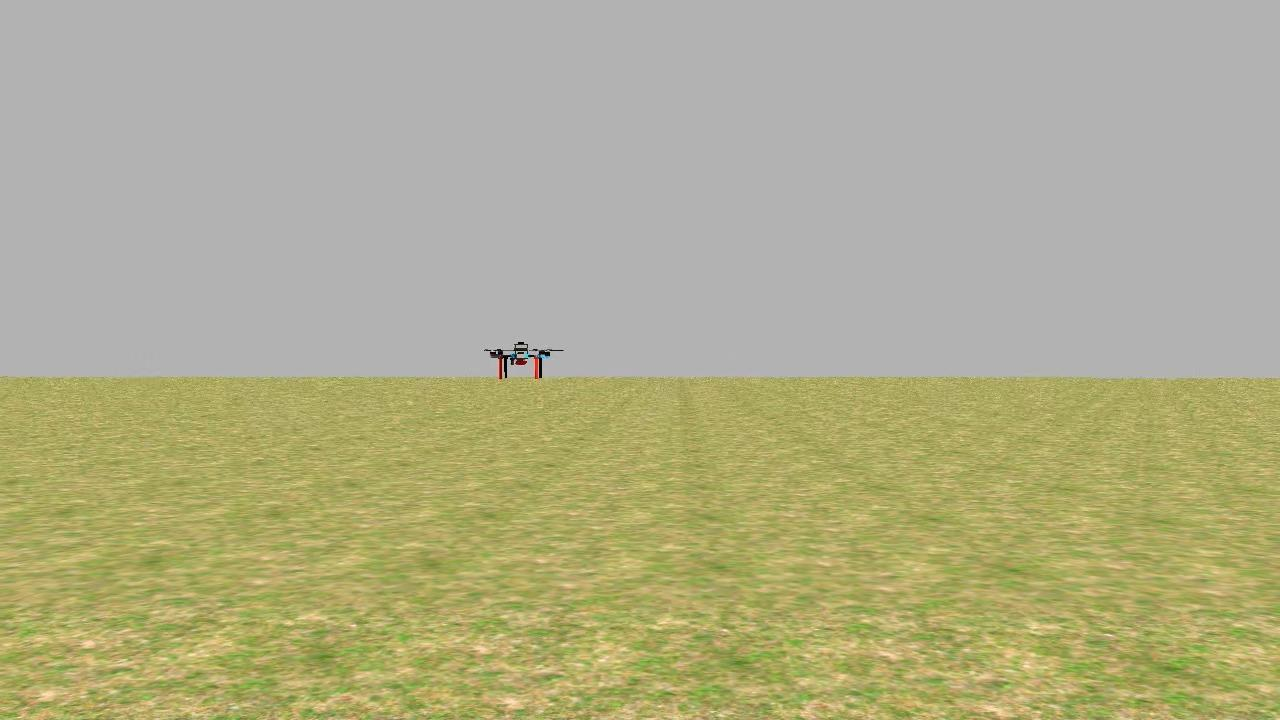UAV: (485, 336, 562, 384)
